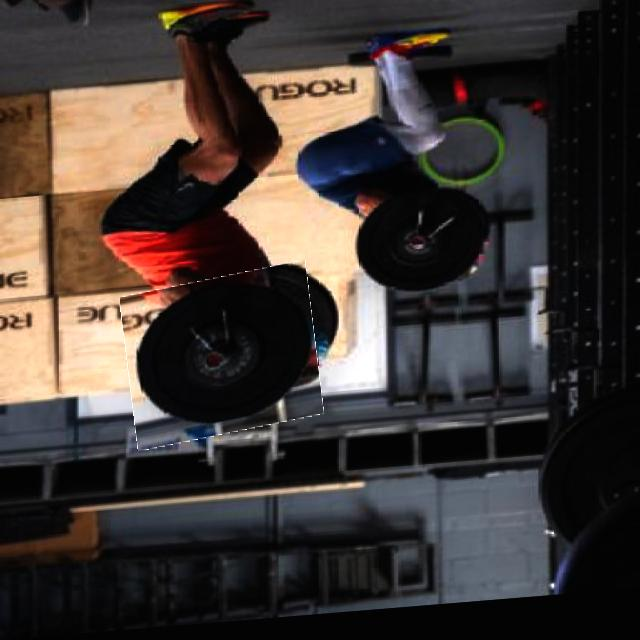barbell: (125, 270, 320, 449)
